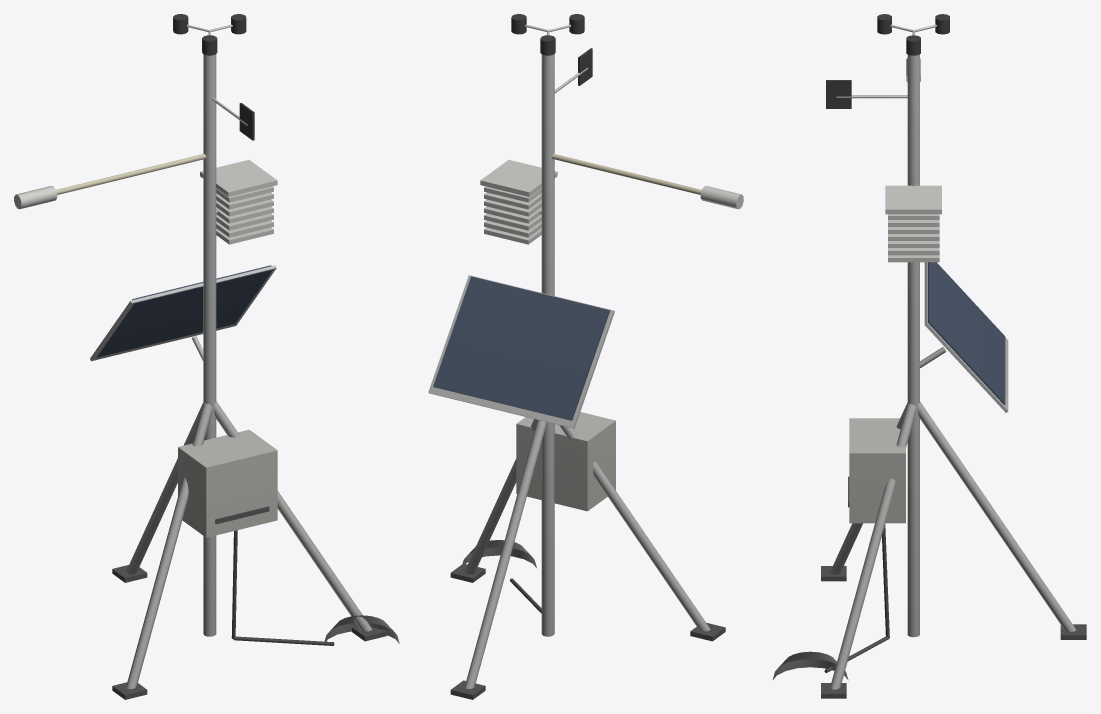
The model's file is surveyStation_steel.glb.
3 renders of one model, left to right at view 1: azimuth 30°, elevation 25°; view 2: azimuth 150°, elevation 25°; view 3: azimuth 270°, elevation 25°, orthographic.
Parts seen in each view (by area): view 1: surveyStation_steel; view 2: surveyStation_steel; view 3: surveyStation_steel.
Part boxes in pixels (bbox=[...]): surveyStation_steel: bbox=[14, 14, 399, 699]; surveyStation_steel: bbox=[428, 14, 743, 699]; surveyStation_steel: bbox=[772, 14, 1086, 698].
Bounding box in the file's own units: 1.46 × 2.62 × 1.22.
